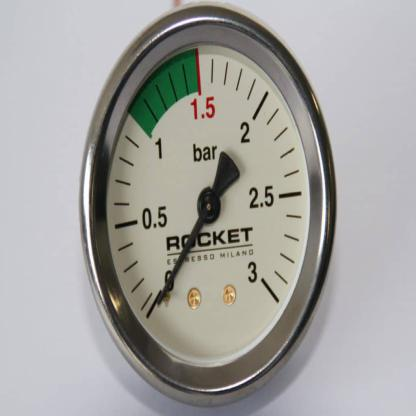needle: (156, 207, 210, 308)
